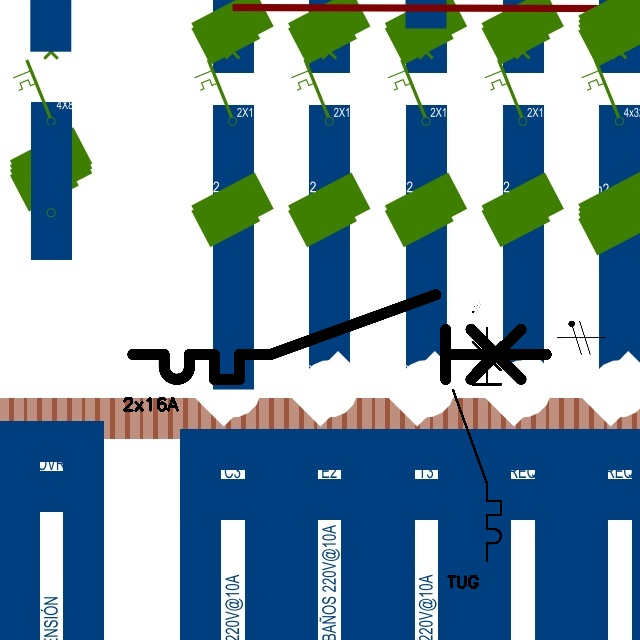interruptor_termomagnetico: (122, 284, 556, 390), (447, 321, 507, 567)
